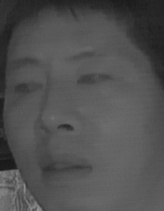eye: (76, 69, 113, 90), (11, 76, 45, 96)
mouth: (35, 149, 98, 184)
